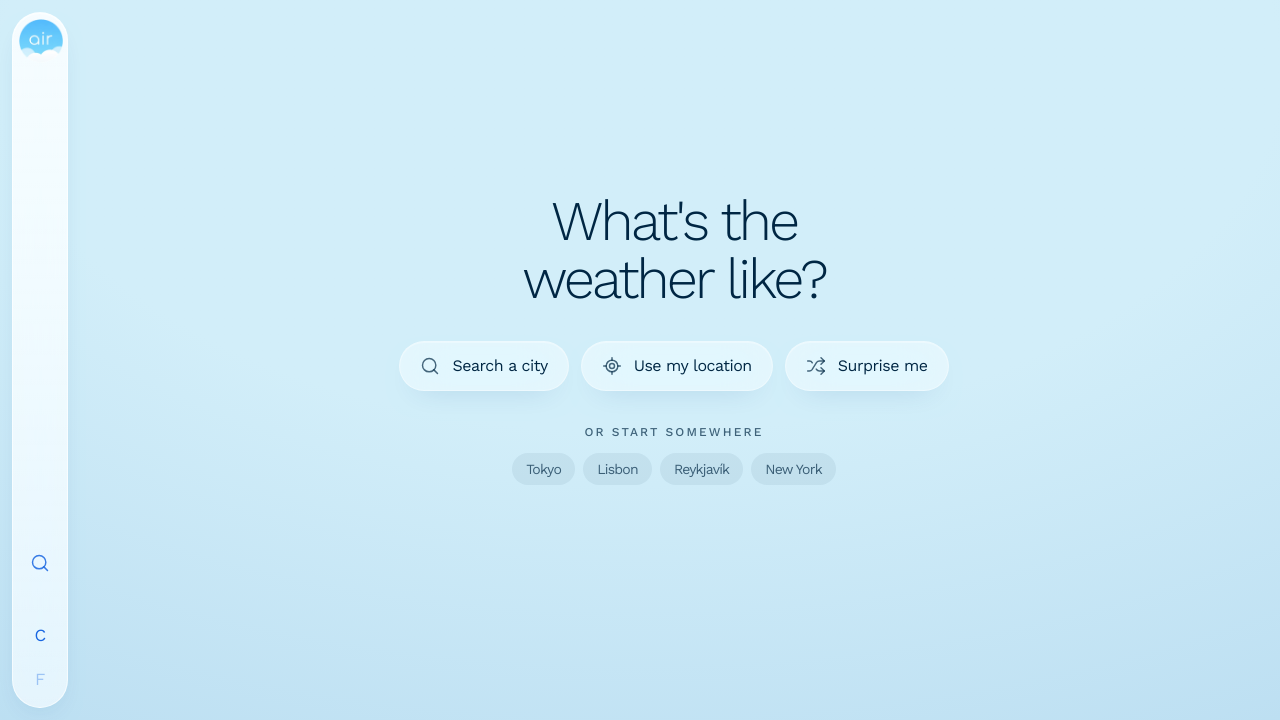
Test: air (integration) › names the failed city under the search field when the lookup 404s
This screenshot has width=1280, height=720.
Step 1. Click the button named "Search" → (40, 563), box x1=18 y1=541 x2=62 y2=585
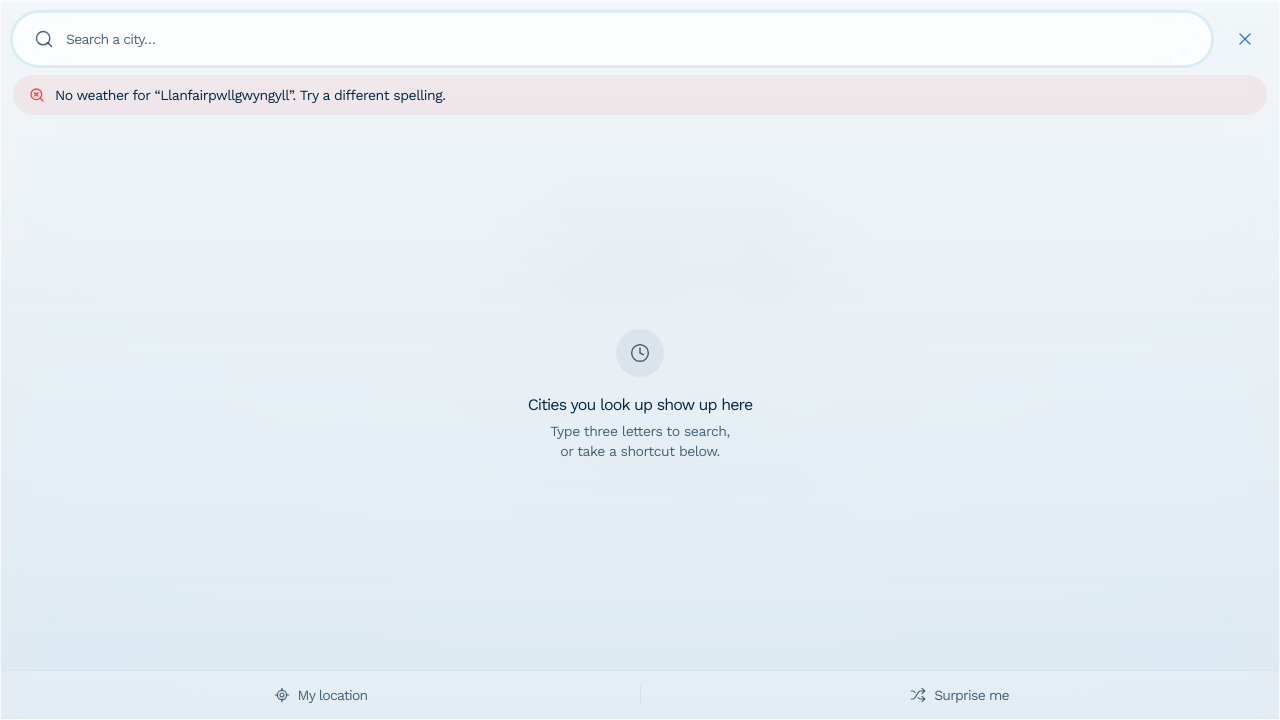
Check: the message shows "No weather for “Llanfairpwllgwyngyll”", box x1=55 y1=87 x2=445 y2=103
